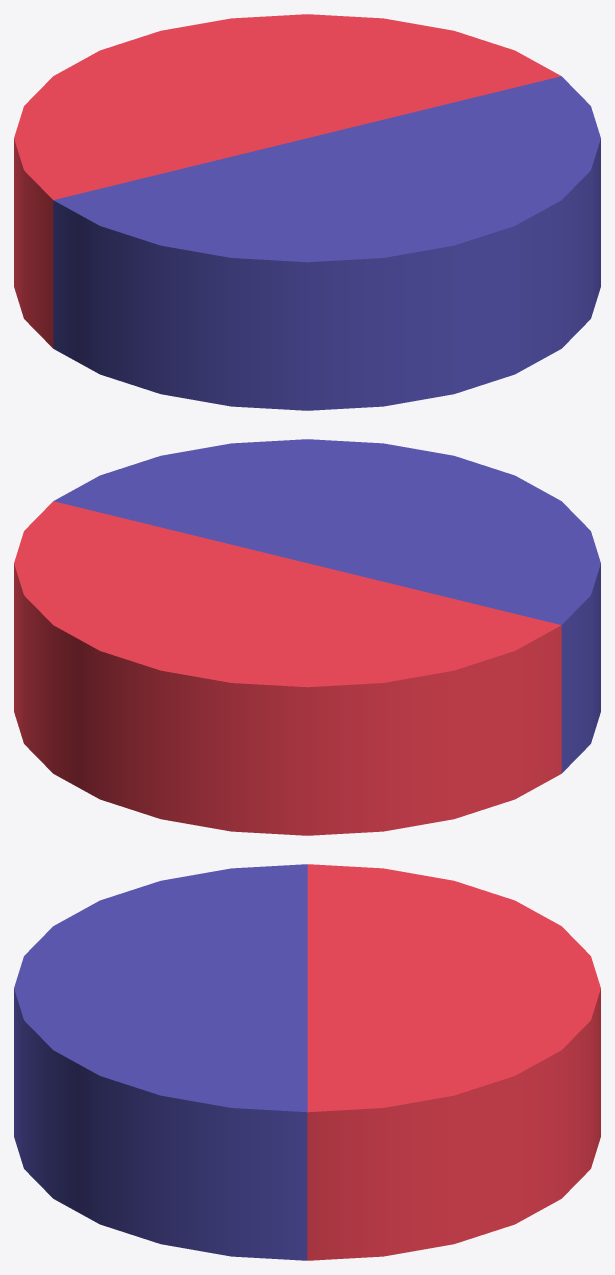
File: Magnet C.fbx
The picture shows the model from 3 angles, top to bottom: view 1: azimuth 30°, elevation 25°; view 2: azimuth 150°, elevation 25°; view 3: azimuth 270°, elevation 25°; orthographic projection.
Parts seen in each view (by area): view 1: Magnet C; view 2: Magnet C; view 3: Magnet C.
Part boxes in pixels (box(x1,y1,x2,y2)): Magnet C: box(14, 14, 600, 410); Magnet C: box(14, 439, 600, 835); Magnet C: box(14, 864, 600, 1260).
Size of the model in its own units: 1.7 by 0.4734 by 1.7.
